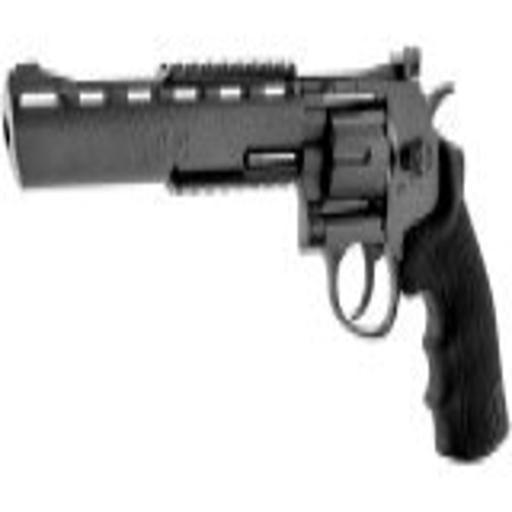Handgun: (2, 50, 511, 468)
